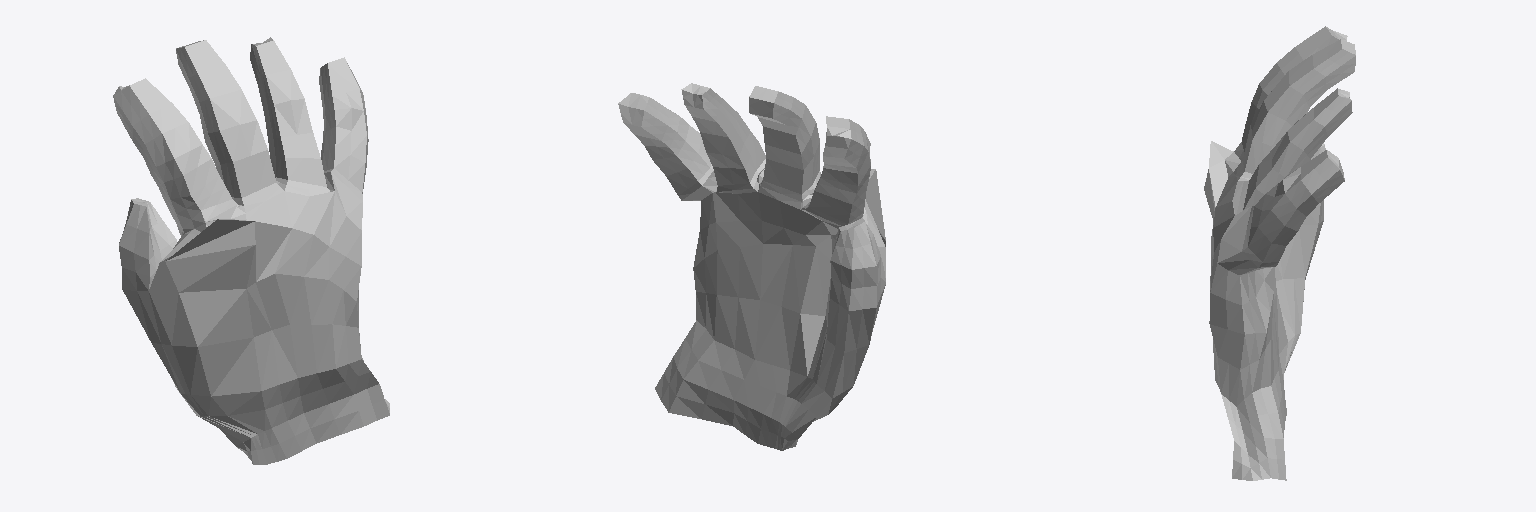
The model's file is hand_sub2_triang0020.obj.
3 views of the same model, side by side, from view 1: azimuth 30°, elevation 25°; view 2: azimuth 150°, elevation 25°; view 3: azimuth 270°, elevation 25° (orthographic).
Visible parts, largest first — view 1: Hand; view 2: Hand; view 3: Hand.
Boxes of the visible parts, x1,y1,x2,y2 form: Hand: [113, 37, 389, 464]; Hand: [618, 83, 885, 450]; Hand: [1204, 26, 1355, 480].
Size of the model in its own units: 2.97 by 4.56 by 1.59.